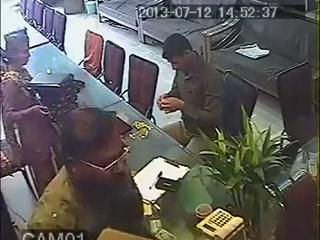Normal: (27, 106, 148, 240), (0, 26, 62, 213), (156, 33, 224, 145)
